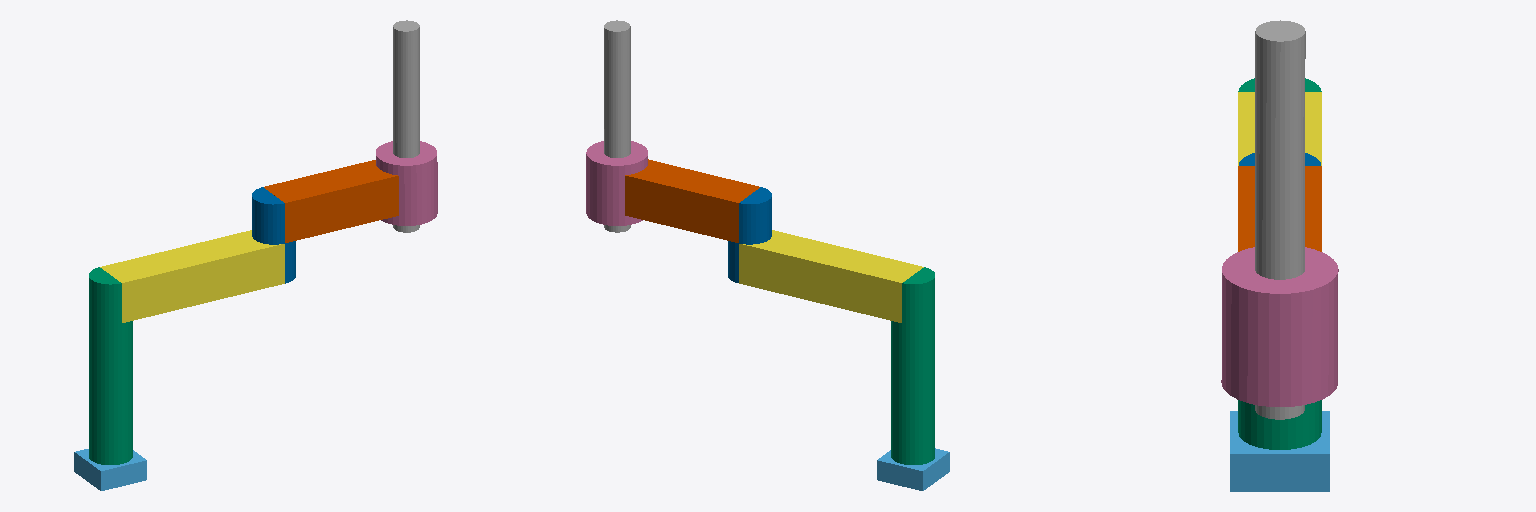
robot.urdf — scara:
<?xml version = "1.0"?>
<robot name = "scara" xmlns:xacro="http://www.ros.org/wiki/xacro">

  <!-- Used for fixing robot to 'base_link' -->
  <link name="world"/>

  <!-- Base Link -->
  <link name = "base_link">
    <visual>
      <geometry>
        <box size = "0.12 0.12 0.05"/>
      </geometry>
      <material name = "blue"/>
      <origin xyz = "0 0 0.025"/>
    </visual>
    <inertial>
      <mass value="1" />
      <origin xyz="0 0 0.025" rpy="0 0 0" />
      <inertia ixx="1" ixy="0" ixz="0" iyy="1" iyz="0" izz="1" />
    </inertial>
    <collision>
      <geometry>
        <box size = "0.12 0.12 0.05"/>
      </geometry>
      <material name = "blue"/>
      <origin xyz = "0 0 0.025"/>
    </collision>
  </link>

  <joint name="base2world" type="fixed">
    <parent link="world"/>
    <child link="base_link"/>
  </joint>

  <!-- revolute1 1 -->
  <link name = "revolute1">
    <visual>
      <geometry>
        <cylinder length = "0.45" radius = "0.05"/>
      </geometry>
      <material name = "green"/>
      <origin xyz = "0 0 0.225"/>
    </visual>
    <inertial>
      <mass value="0.5" />
      <origin xyz="0 0 0.05" rpy="0 0 0" />
      <inertia ixx="0.5" ixy="0" ixz="0" iyy="0.5" iyz="0" izz="0.5" />
    </inertial>
    <collision>
      <geometry>
        <cylinder length = "0.45" radius = "0.05"/>
      </geometry>
      <material name = "green"/>
      <origin xyz = "0 0 0.225"/>
    </collision>
  </link>

  <joint name = "joint1" type="revolute">
    <parent link = "base_link"/>
    <child link = "revolute1"/>
    <origin xyz = "0 0 0.05"/>
    <limit effort="1000.0" lower="-1.57" upper="1.57" velocity="0.5"/>
    <axis xyz = "0 0 1"/>
    <dynamics damping="0.2" friction="0.1" />
  </joint>

  <!-- link 1 -->
  <link name = "link1">
    <visual>
      <geometry>
        <box size = "0.1 0.1 0.425"/>
      </geometry>
      <material name = "blue"/>
      <origin rpy = "0 1.571 0" xyz = "0.2125 0 0"/>
    </visual>
    <inertial>
      <mass value="0.5" />
      <origin xyz="0.2125 0 0" rpy="0 0 0" />
      v<inertia ixx="0.5" ixy="0" ixz="0" iyy="0.5" iyz="0" izz="0.5" />
    </inertial>
    <collision>
      <geometry>
        <box size = "0.1 0.1 0.425"/>
      </geometry>
      <material name = "blue"/>
      <origin rpy = "0 1.571 0" xyz = "0.2125 0 0"/>
    </collision>
  </link>

  <joint name = "link12revolute1" type="fixed">
    <parent link = "revolute1"/>
    <child link = "link1"/>
    <origin xyz = "0 0 0.4"/>
  </joint>
     
  <!-- revolute 2 -->
  <link name = "revolute2">
    <visual>
      <geometry>
        <cylinder length = "0.2" radius = "0.05"/>
      </geometry>
      <material name = "green"/>
      <origin rpy = "0 0 0" xyz = "0 0 0"/>
    </visual>
    <inertial>
      <mass value="0.5" />
      <origin xyz="0 0 0" rpy="0 0 0" />
      v<inertia ixx="0.5" ixy="0" ixz="0" iyy="0.5" iyz="0" izz="0.5" />
    </inertial>
    <collision>
      <geometry>
        <cylinder length = "0.2" radius = "0.05"/>
      </geometry>
      <material name = "green"/>
      <origin rpy = "0 0 0" xyz = "0 0 0"/>
    </collision>
  </link>

  <joint name = "joint2" type="revolute">
    <parent link = "link1"/>
    <child link = "revolute2"/>
    <origin xyz = "0.425 0 0.05"/>
    <limit effort="1000.0" lower="-1.57" upper="1.57" velocity="0.5"/>
    <axis xyz = "0 0 1"/>
    <dynamics damping="0.2" friction="0.1" />
  </joint>

  <!-- link 2 -->
  <link name = "link2">
    <visual>
      <geometry>
        <box size = "0.1 0.1 0.345"/>
      </geometry>
      <material name = "blue"/>
      <origin rpy = "0 1.571 0" xyz = "0.1725 0 0"/>
    </visual>
    <inertial>
      <mass value="0.5" />
      <origin xyz="0.1725 0 0" rpy="0 0 0" />
      v<inertia ixx="0.5" ixy="0" ixz="0" iyy="0.5" iyz="0" izz="0.5" />
    </inertial>
    <collision>
      <geometry>
        <box size = "0.1 0.1 0.345"/>
      </geometry>
      <material name = "blue"/>
      <origin rpy = "0 1.571 0" xyz = "0.1725 0 0"/>
    </collision>
  </link>

  <joint name = "link22revolute2" type="fixed">
    <parent link = "revolute2"/>
    <child link = "link2"/>
    <origin xyz = "0 0 0.05"/>
  </joint>

  <!-- prismatic 3 -->
  <link name = "prismatic3">
    <visual>
      <geometry>
        <cylinder length = "0.15" radius = "0.07"/>
      </geometry>
      <material name = "orange"/>
      <origin xyz = "0 0 0"/>
    </visual>
    <inertial>
      <mass value="0.5" />
      <origin xyz="0 0 0" rpy="0 0 0" />
      <inertia ixx="0.5" ixy="0" ixz="0" iyy="0.5" iyz="0" izz="0.5" />
    </inertial>
    <collision>
      <geometry>
        <cylinder length = "0.15" radius = "0.07"/>
      </geometry>
      <material name = "orange"/>
      <origin xyz = "0 0 0"/>
    </collision>
  </link>
  
  <joint name = "prismatic32link2" type="fixed">
    <parent link = "link2"/>
    <child link = "prismatic3"/>
    <origin rpy = "3.14 0 0" xyz = "0.345 0 0"/>
  </joint> 

  <!-- link 3 -->
  <link name = "link3">
    <visual>
      <geometry>
        <cylinder length = "0.5" radius = "0.03"/>
      </geometry>
      <material name = "blue"/>
      <origin xyz = "0 0 -0.25"/>
    </visual>
    <inertial>
      <mass value="0.2" />
      <origin xyz="0 0 -0.25" rpy="0 0 0" />
      <inertia ixx="0.2" ixy="0" ixz="0" iyy="0.2" iyz="0" izz="0.2" />
    </inertial>
    <collision>
      <geometry>
        <cylinder length = "0.5" radius = "0.03"/>
      </geometry>
      <material name = "blue"/>
      <origin xyz = "0 0 -0.25"/>
    </collision>
  </link>
  
  <joint name = "joint3" type="prismatic">
    <parent link = "prismatic3"/>
    <child link = "link3"/>
    <origin xyz = "0 0 0.11"/>
    <limit effort="1000" lower="-0.00001" upper="0.3" velocity="0.1"/> 
    <axis xyz = "0 0 1"/> 
    <dynamics damping="0.4" friction="5" />
  </joint>

  <link name="tool0"/>

  <joint name="tool02link3" type="fixed">
      <origin rpy="0 0 0" xyz="0 0 0"/>
      <parent link="link3"/>
      <child link="tool0"/>
      <axis xyz="0 0 0"/>
  </joint>

</robot>

--- Facts derived from the render (not from the file) ---
3 views of the same robot in one strip: view 1: azimuth 30°, elevation 25°; view 2: azimuth 150°, elevation 25°; view 3: azimuth 270°, elevation 25° (orthographic).
Model scara with 9 links and 8 joints (2 revolute, 1 prismatic, 5 fixed), rooted at world, posed all joints at 0.
Links seen in each view (by area): view 1: link1, revolute1, link2, link3, prismatic3, revolute2, base_link; view 2: link1, revolute1, link2, link3, prismatic3, revolute2, base_link; view 3: prismatic3, link3, base_link, revolute1, link2, link1.
Link boxes in pixels (x1=…): link1: x1=100, y1=230, x2=284, y2=322; revolute1: x1=89, y1=267, x2=132, y2=464; link2: x1=264, y1=160, x2=398, y2=242; link3: x1=393, y1=20, x2=419, y2=232; prismatic3: x1=376, y1=141, x2=437, y2=225; revolute2: x1=252, y1=187, x2=295, y2=283; base_link: x1=74, y1=449, x2=146, y2=490; link1: x1=739, y1=230, x2=923, y2=322; revolute1: x1=891, y1=267, x2=934, y2=464; link2: x1=625, y1=159, x2=759, y2=242; link3: x1=604, y1=20, x2=630, y2=232; prismatic3: x1=586, y1=141, x2=647, y2=225; revolute2: x1=728, y1=187, x2=771, y2=282; base_link: x1=877, y1=448, x2=949, y2=490; prismatic3: x1=1221, y1=247, x2=1338, y2=406; link3: x1=1255, y1=20, x2=1305, y2=419; base_link: x1=1230, y1=411, x2=1329, y2=491; revolute1: x1=1238, y1=78, x2=1321, y2=449; link2: x1=1238, y1=166, x2=1321, y2=251; link1: x1=1238, y1=92, x2=1321, y2=165.
Bounding box of the posed robot: 0.9 × 0.1402 × 0.94 m (x, y, z).
Geometry: primitives only (box / cylinder / sphere), no mesh files.